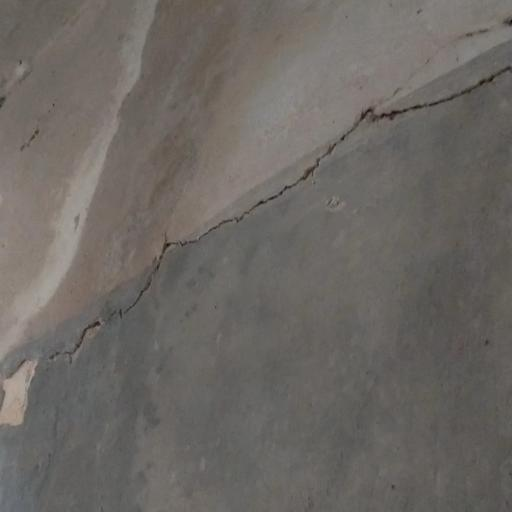major_crack: (0, 60, 512, 404)
